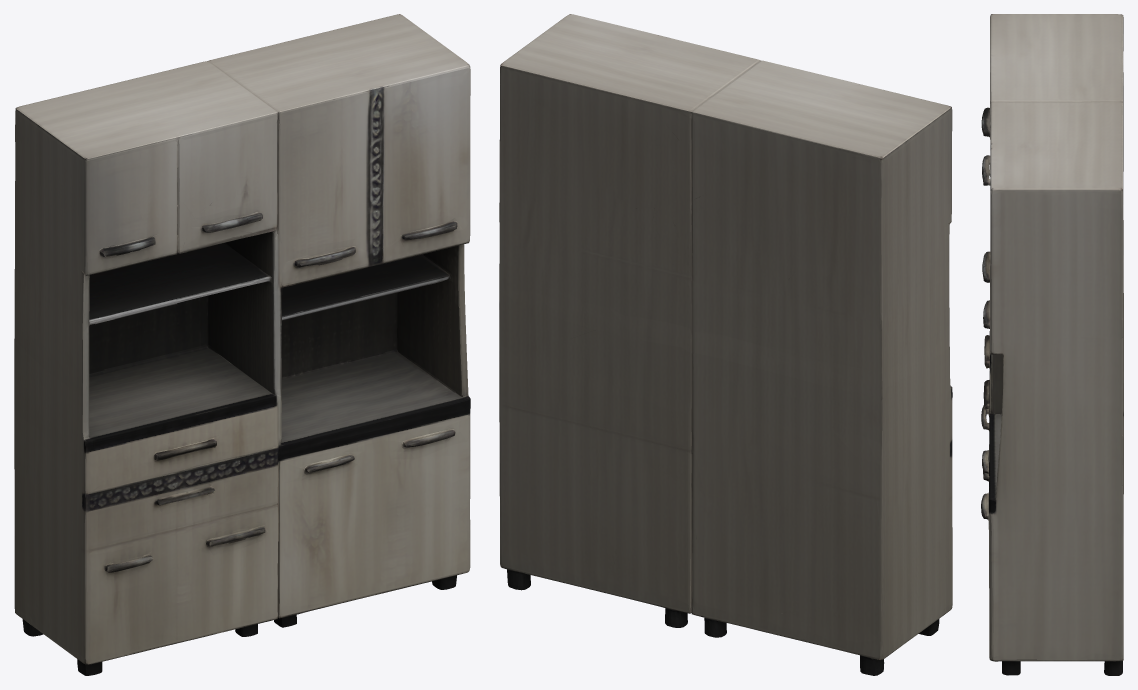
The model's file is alaska_kitchen_combo_baf.glb.
3 views of the same model, side by side, from view 1: azimuth 30°, elevation 25°; view 2: azimuth 150°, elevation 25°; view 3: azimuth 270°, elevation 25° (orthographic). The views are drawn at different scales.
Parts seen in each view (by area): view 1: world; view 2: world; view 3: world.
Part boxes in pixels (x1,y1,x2,y2): world: (14, 14, 470, 675); world: (499, 14, 952, 675); world: (981, 14, 1123, 675).
Size of the model in its own units: 0.771 by 1 by 0.2646.
Materials: 1 (1 with a texture image).
